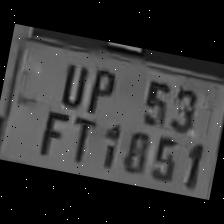1: (174, 135, 212, 192), (90, 116, 126, 173)
3: (163, 79, 201, 136)
5: (135, 74, 175, 128), (146, 128, 184, 184)
8: (116, 122, 154, 176)
F: (32, 104, 72, 160)
P: (80, 61, 120, 116)
T: (60, 110, 100, 166)
U: (52, 56, 92, 110)
